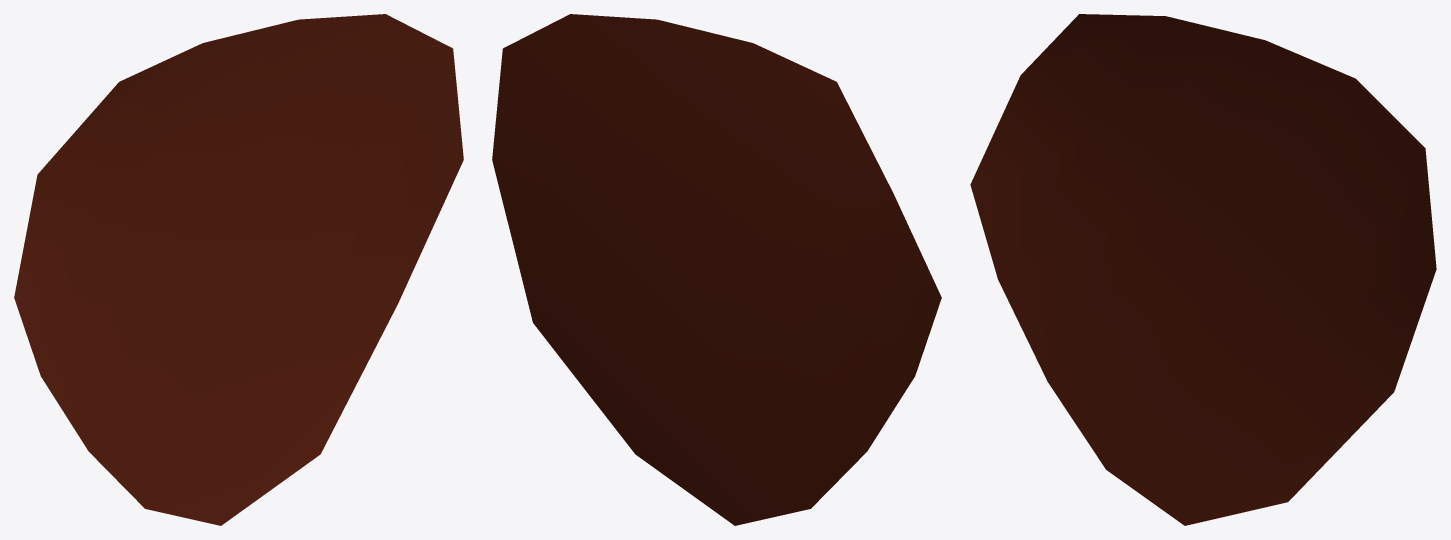
The model's file is finch_feather_flight_tertiary_062.obj.
3 renders of one model, left to right at view 1: azimuth 30°, elevation 25°; view 2: azimuth 150°, elevation 25°; view 3: azimuth 330°, elevation 25°, orthographic. The views are drawn at different scales.
Visible parts, largest first — view 1: feather_flight_tertiary_062; view 2: feather_flight_tertiary_062; view 3: feather_flight_tertiary_062.
Part boxes in pixels (box(x1,y1,x2,y2)): feather_flight_tertiary_062: box(14, 14, 463, 525); feather_flight_tertiary_062: box(492, 14, 941, 525); feather_flight_tertiary_062: box(970, 14, 1436, 525).
Bounding box in the file's own units: 0.00316 × 0.00327 × 0.000153.
